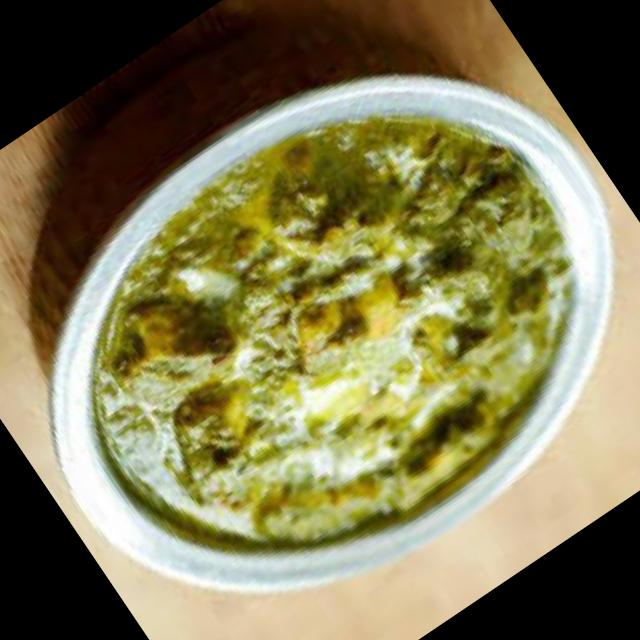palak_paneer: (13, 29, 640, 632)
